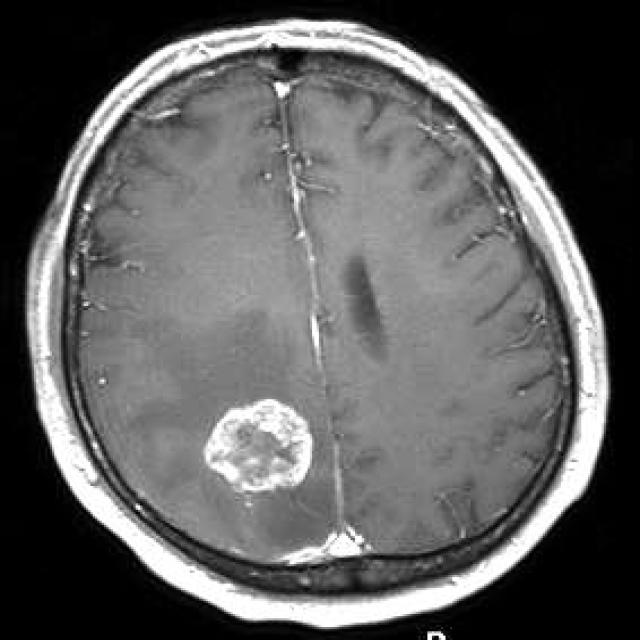Tumor-Cell: (202, 391, 324, 506)
